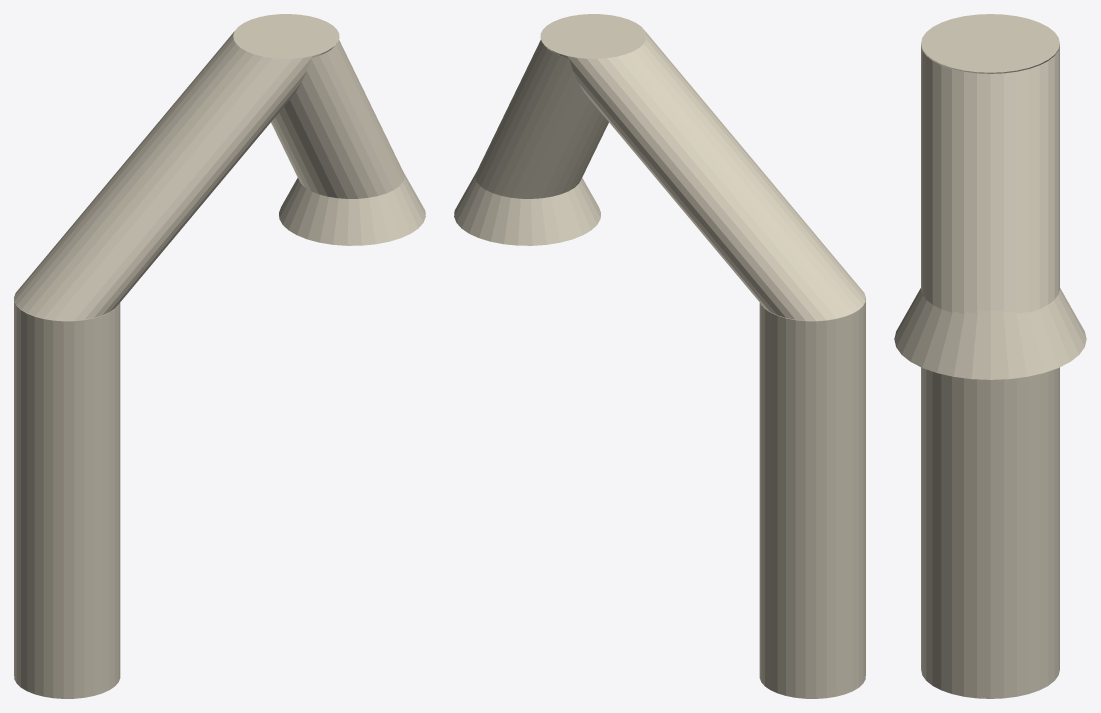
The model's file is Closed2DoorSinkCounter(Faucet)V2.fbx.
3 views of the same model, side by side, from view 1: azimuth 30°, elevation 25°; view 2: azimuth 150°, elevation 25°; view 3: azimuth 270°, elevation 25° (orthographic). The views are drawn at different scales.
Visible parts, largest first — view 1: Faucet; view 2: Faucet; view 3: Faucet.
Part boxes in pixels (x1=…): Faucet: x1=14, y1=14, x2=425, y2=698; Faucet: x1=454, y1=14, x2=865, y2=698; Faucet: x1=894, y1=14, x2=1086, y2=698.
Bounding box in the file's own units: 36.73 × 114 × 161.
